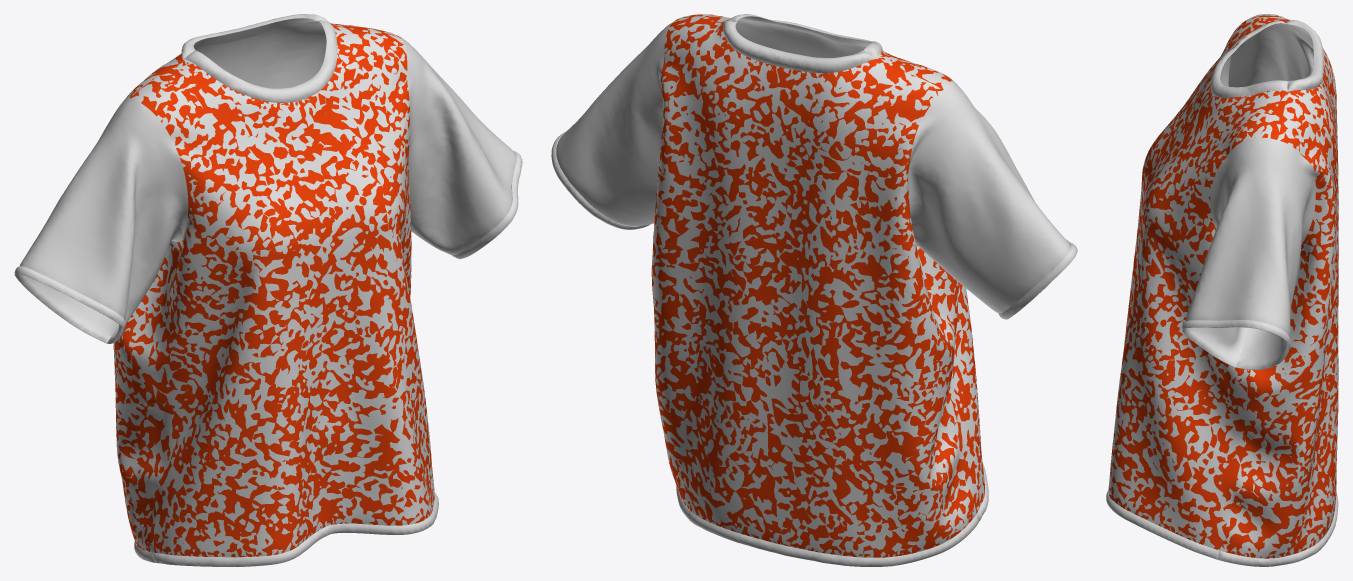
File: t_shirt2-transformed.glb
3 renders of one model, left to right at view 1: azimuth 30°, elevation 25°; view 2: azimuth 150°, elevation 25°; view 3: azimuth 270°, elevation 25°, orthographic. The views are drawn at different scales.
Parts seen in each view (by area): view 1: basic women oversized t-shirt.001; view 2: basic women oversized t-shirt.001; view 3: basic women oversized t-shirt.001.
Boxes of the visible parts, x1=… form: basic women oversized t-shirt.001: x1=14, y1=14, x2=522, y2=566; basic women oversized t-shirt.001: x1=551, y1=14, x2=1077, y2=566; basic women oversized t-shirt.001: x1=1106, y1=14, x2=1338, y2=566.
Bounding box in the file's own units: 3.93 × 3.64 × 1.67.
